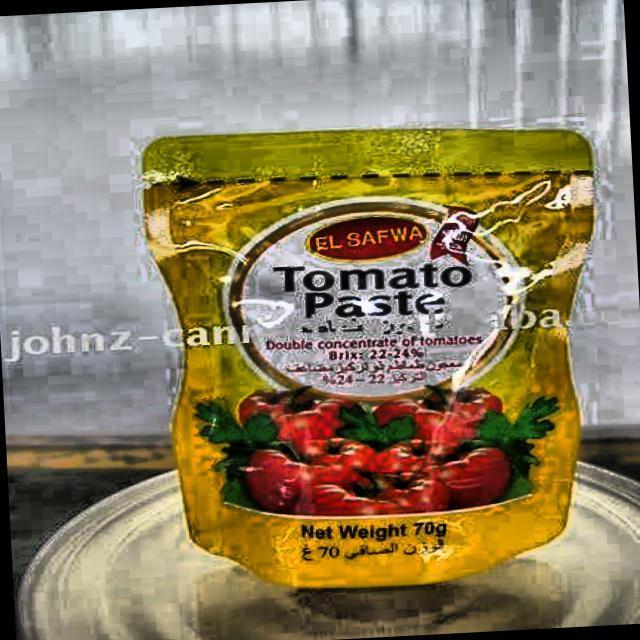cardboard: (136, 112, 616, 598)
